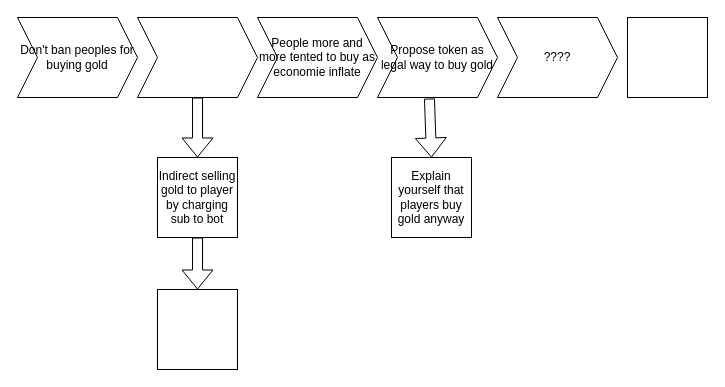
This 725x387 diagram has some shape labels left out. Here are the shapes that lost their labels. From the top down, the centre of each, then its label:
At (197,57): "Be slow to ban bot".
At (667,57): "Profit".
At (197,329): "Farm less effective to make gold".
